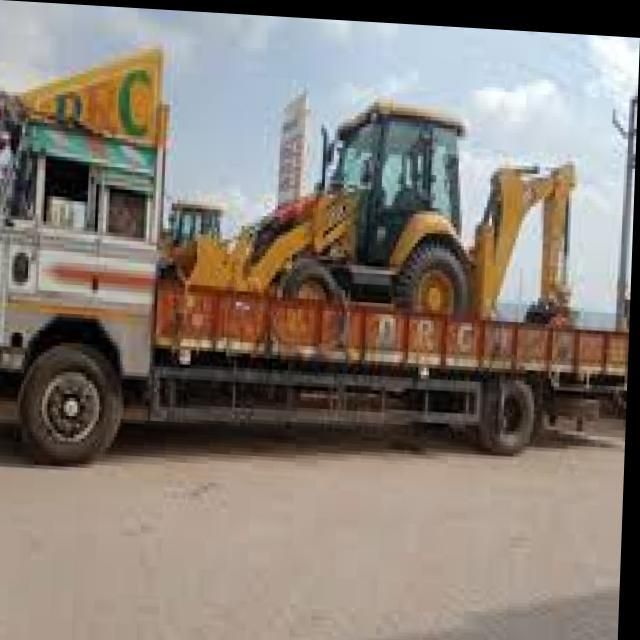uncovered: (0, 29, 639, 448)
